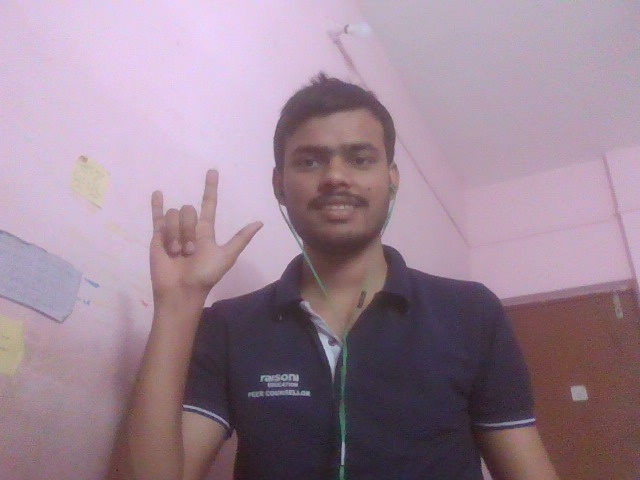ILoveYou: (125, 145, 292, 336)
